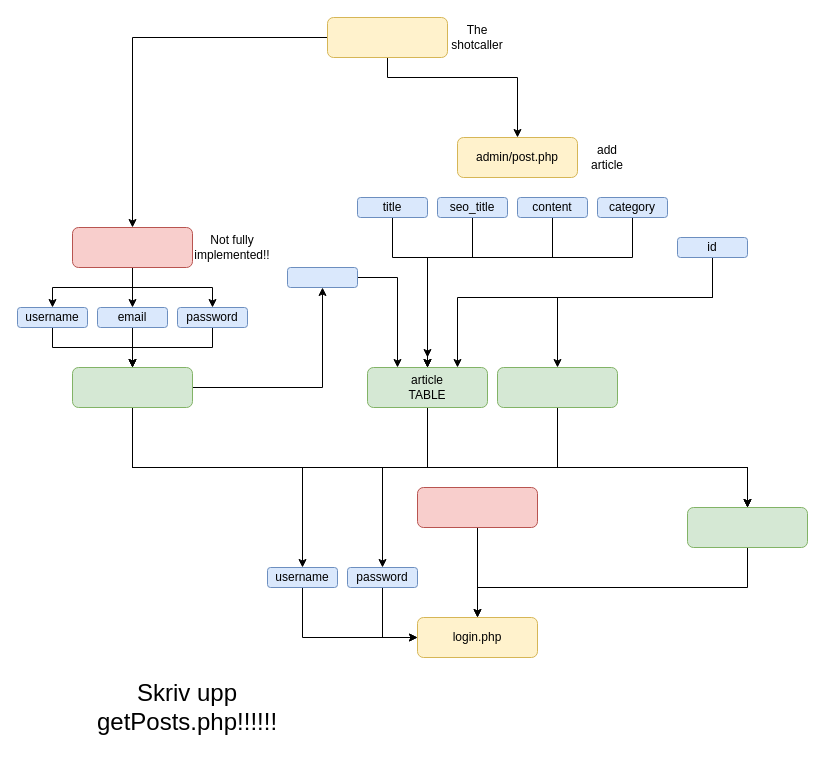
The diagram is 825 pixels wide and 765 high, and some of its shapes have lost their labels. The centre of each missing label's shape, as x and y in pixels:
admin/add_user.php: point 132,247
admin/index.php -front-end-: point 387,37
author: point 322,277
author TABLE: point 132,387
has_category TABLE: point 557,387
NEEDED -front-end-: point 477,507
website_articles DATABASE: point 747,527
